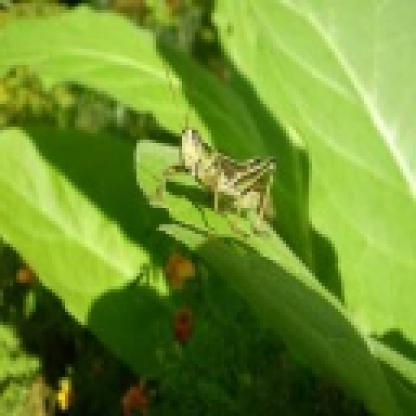grasshopper: (161, 113, 285, 233)
